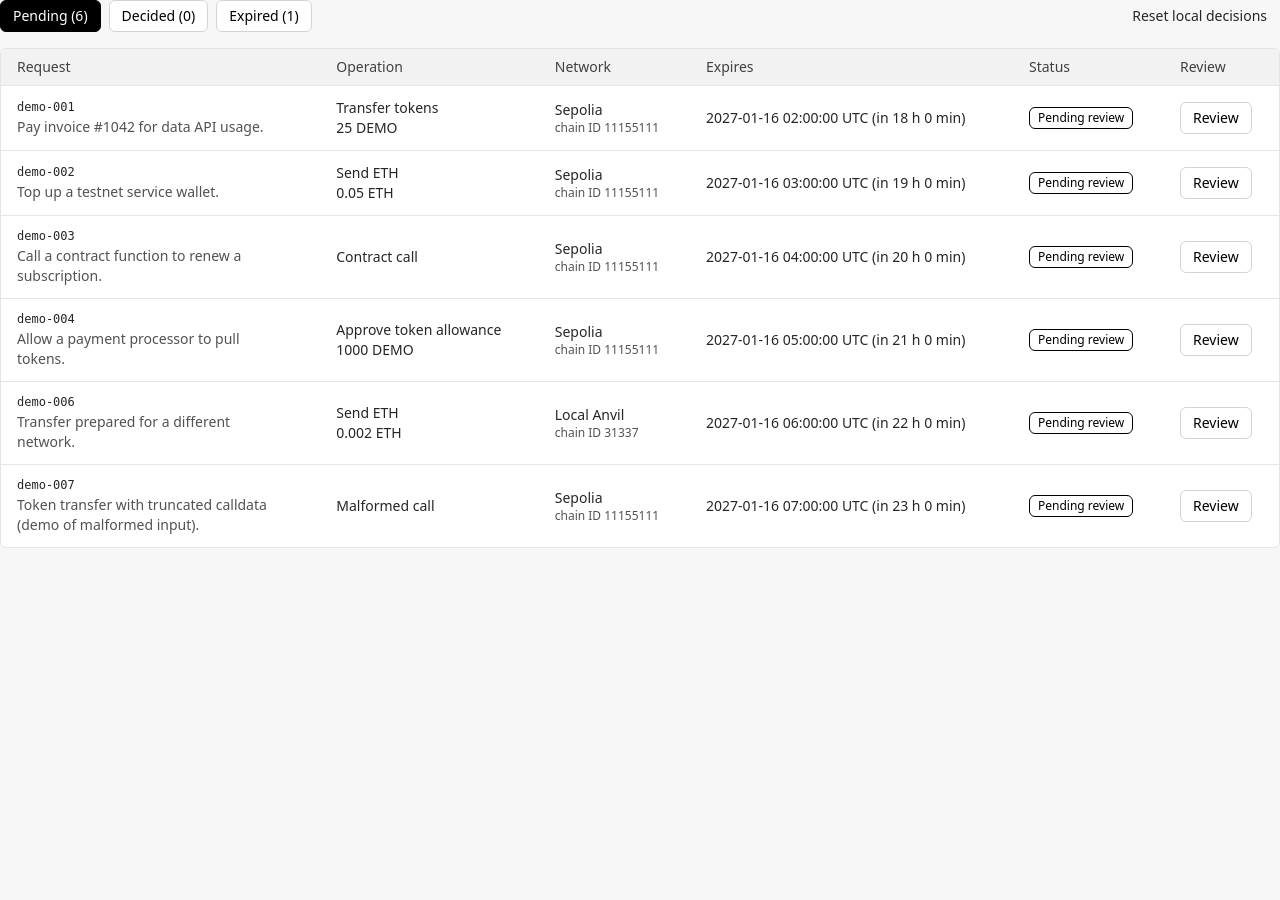
Scenario: ApprovalWorkspace decisions › flags a request that changed after it was decided and treats it as pending
Click the button with aria-label "Review request demo-001" at coordinates (1216, 118), box [1180,102,1252,134]
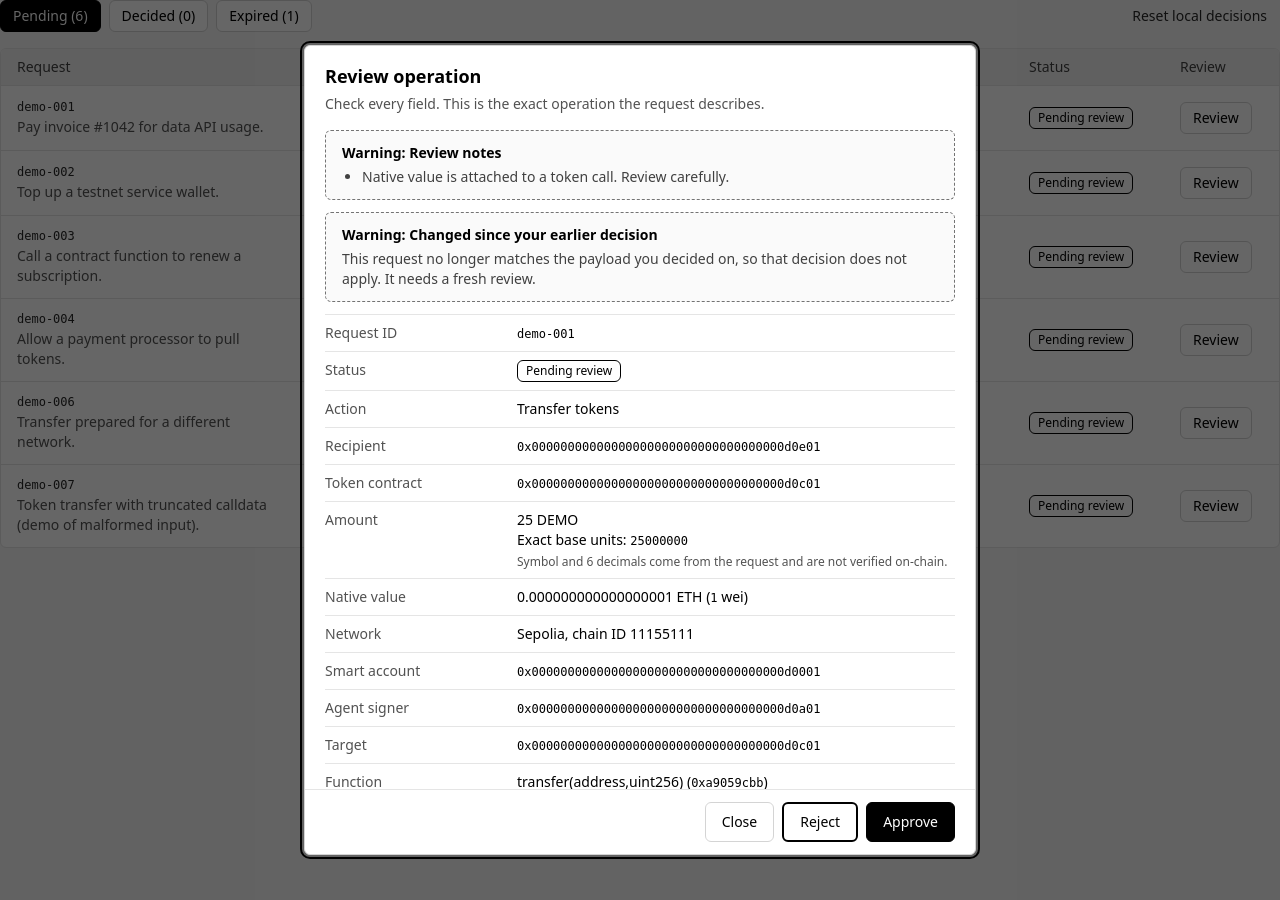
Expected: the text "Warning: Changed since your earlier decision" is shown, [342,225,658,244]
Expected: the button "Approve" is enabled, [866,802,955,842]
